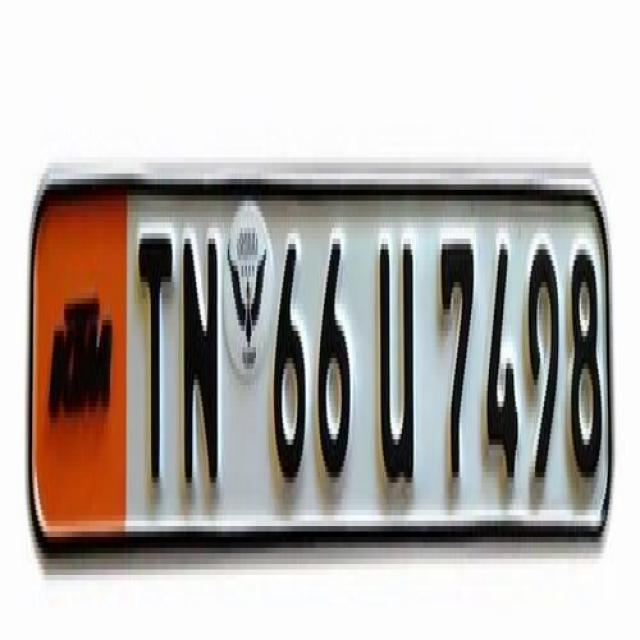4: (480, 220, 523, 503)
6: (269, 199, 313, 498), (314, 215, 354, 496)
7: (431, 209, 476, 505)
8: (569, 210, 606, 498)
9: (522, 207, 564, 500)
N: (174, 199, 229, 522)
T: (132, 201, 178, 522)
U: (375, 204, 421, 518)
